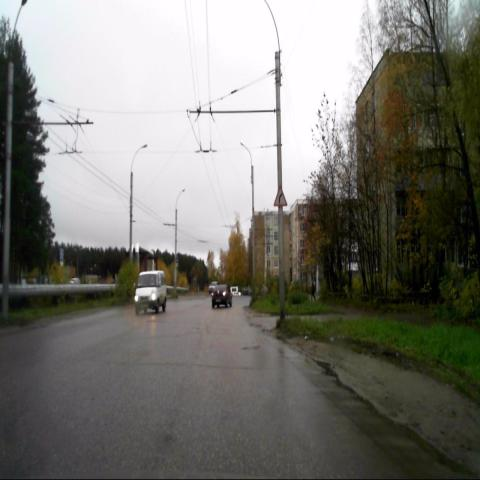1_11: (274, 185, 287, 207)
